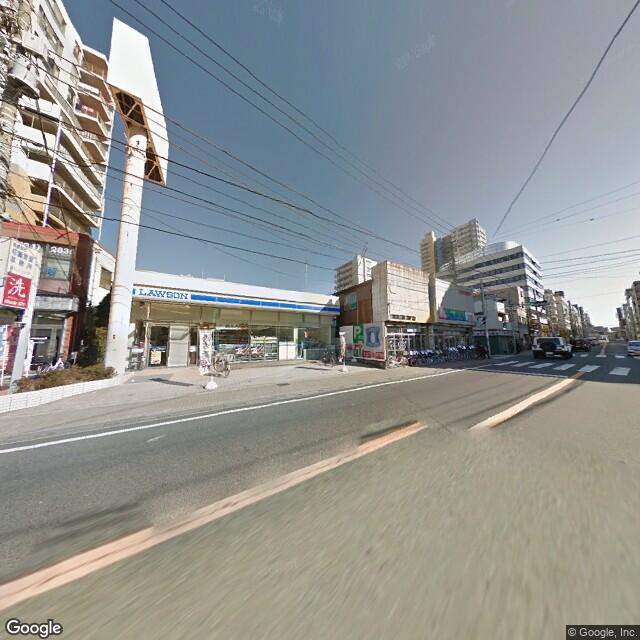lawson: (132, 283, 345, 322), (362, 324, 382, 353)
